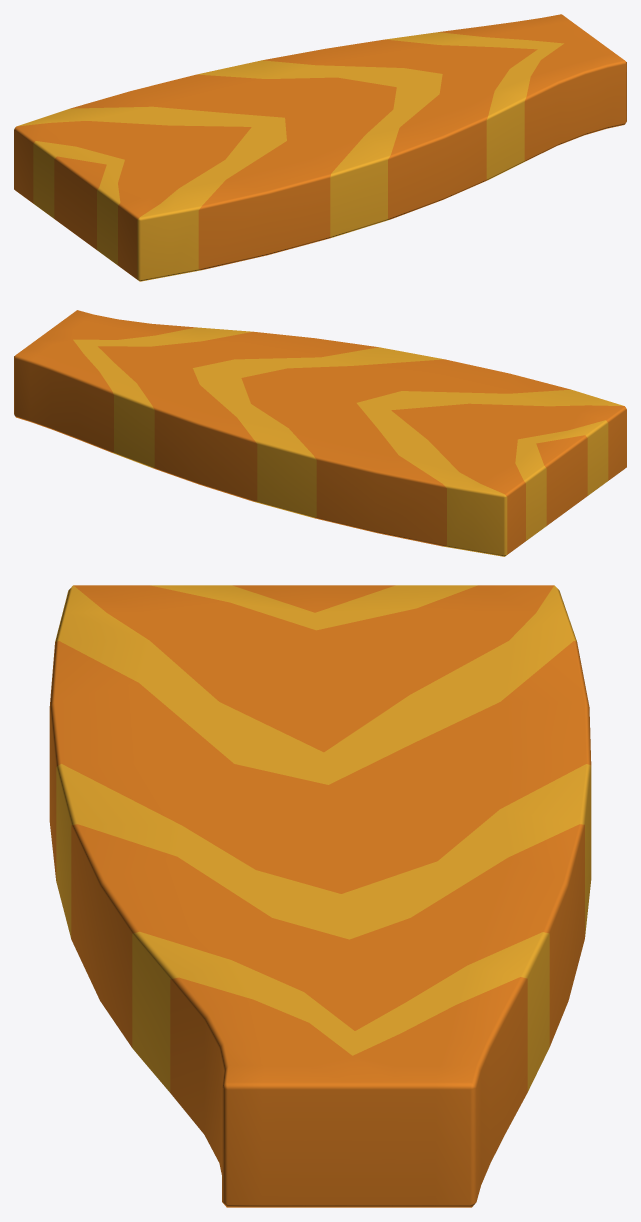
The model's file is Salmon_1_Fillet_2.fbx.
3 views of the same model, one above another, from view 1: azimuth 30°, elevation 25°; view 2: azimuth 150°, elevation 25°; view 3: azimuth 270°, elevation 25° (orthographic). The views are drawn at different scales.
Visible parts, largest first — view 1: Salmon_1_Fillet_2; view 2: Salmon_1_Fillet_2; view 3: Salmon_1_Fillet_2.
Part boxes in pixels (<box>): Salmon_1_Fillet_2: <box>14,14,626,281</box>; Salmon_1_Fillet_2: <box>14,310,626,556</box>; Salmon_1_Fillet_2: <box>49,585,591,1207</box>.
Size of the model in its own units: 58.27 by 6.79 by 26.58.
